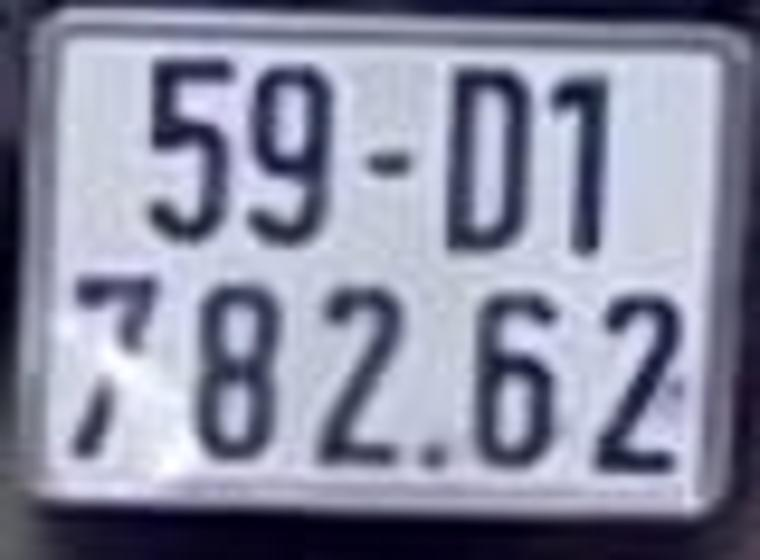-: (366, 146, 413, 185)
.: (419, 436, 454, 470)
1: (549, 70, 613, 265)
2: (312, 283, 405, 471), (596, 284, 676, 478)
5: (150, 53, 236, 247)
6: (475, 288, 562, 465)
7: (70, 269, 164, 455)
8: (194, 283, 285, 460)
9: (248, 63, 332, 255)
D: (440, 61, 533, 255)
